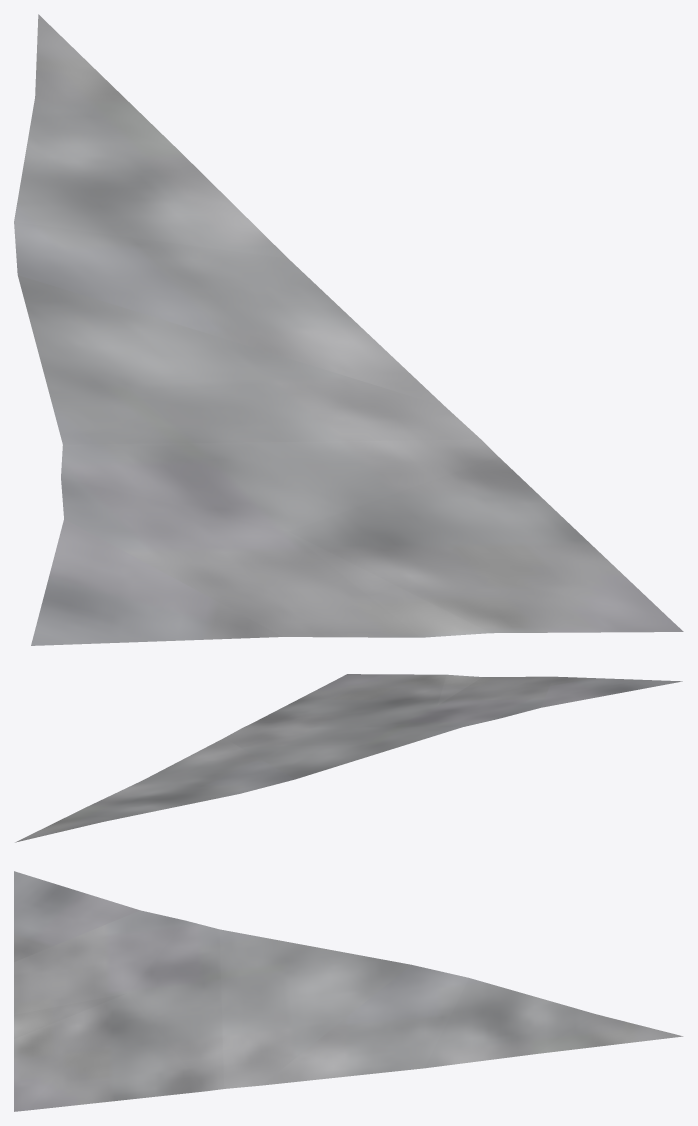
3 renders of one model, top to bottom at view 1: azimuth 30°, elevation 25°; view 2: azimuth 150°, elevation 25°; view 3: azimuth 270°, elevation 25°, orthographic. The views are drawn at different scales.
Size of the model in its own units: 0.2178 by 0.0463 by 0.373.
Materials: 1 (1 with a texture image).
